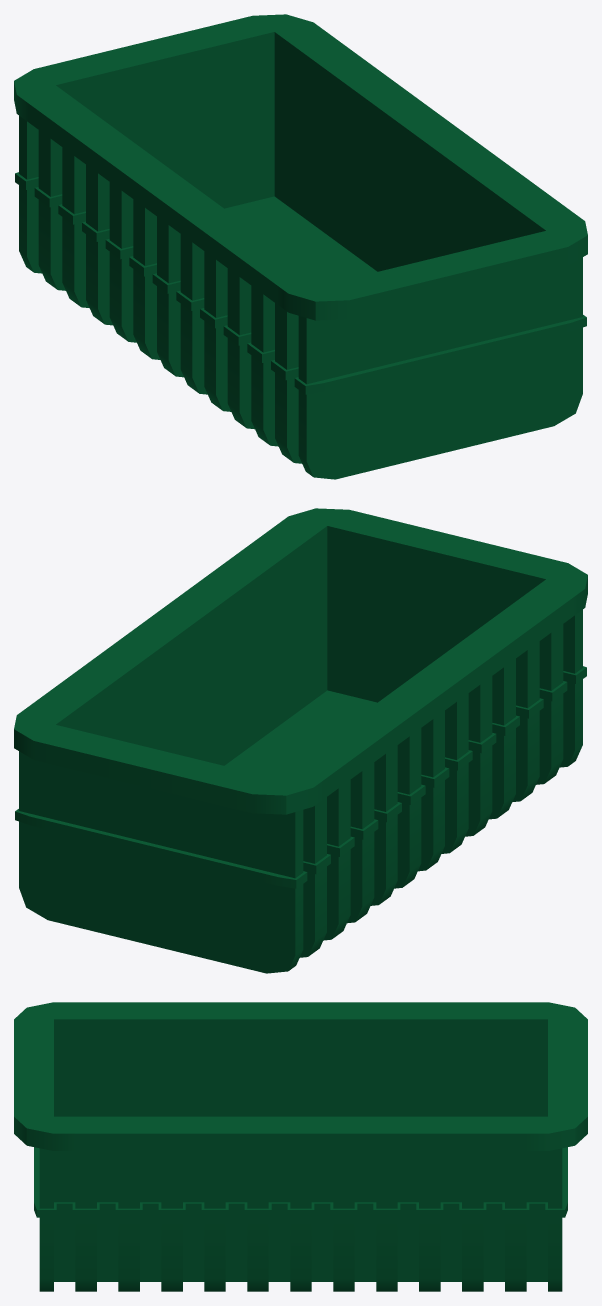
The model's file is ConstructionWasteBin.fbx.
3 renders of one model, top to bottom at view 1: azimuth 30°, elevation 25°; view 2: azimuth 150°, elevation 25°; view 3: azimuth 270°, elevation 25°, orthographic. The views are drawn at different scales.
Parts seen in each view (by area): view 1: pCube1; view 2: pCube1; view 3: pCube1.
Boxes of the visible parts, left/top/right/bottom form: pCube1: left=14, top=14, right=587, bottom=479; pCube1: left=14, top=508, right=587, bottom=973; pCube1: left=14, top=1002, right=587, bottom=1291.
Size of the model in its own units: 7.4 by 4.52 by 13.64.
